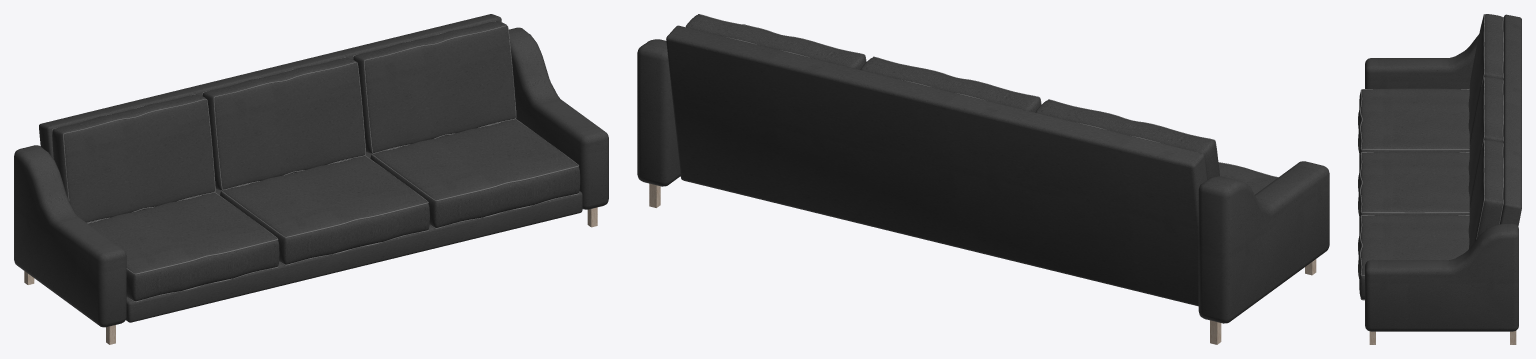
Rendered from modern-couch.glb.
The picture shows the model from 3 angles, left to right: view 1: azimuth 30°, elevation 25°; view 2: azimuth 150°, elevation 25°; view 3: azimuth 270°, elevation 25°; orthographic projection. The views are drawn at different scales.
Visible parts, largest first — view 1: Object_3, Object_2, Object_4; view 2: Object_3, Object_2, Object_4; view 3: Object_3, Object_2, Object_4.
Boxes of the visible parts, x1,y1,x2,y2 form: Object_3: (14,14,608,327); Object_2: (52,21,578,302); Object_4: (24,207,597,344); Object_3: (637,14,1329,323); Object_2: (698,14,1278,177); Object_4: (649,183,1316,344); Object_3: (1358,14,1521,331); Object_2: (1360,14,1503,300); Object_4: (1369,331,1516,344).
Bounding box in the file's own units: 2.75 × 0.8176 × 0.8914.
Materials: 3 (3 with a texture image).
